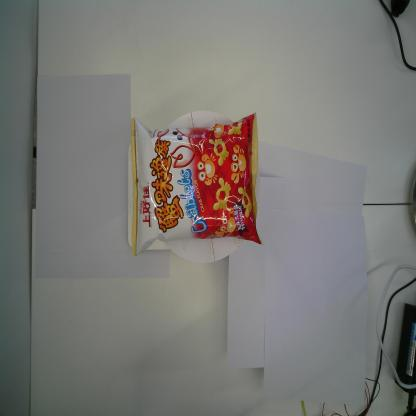Puffed Food: (128, 110, 267, 260)
